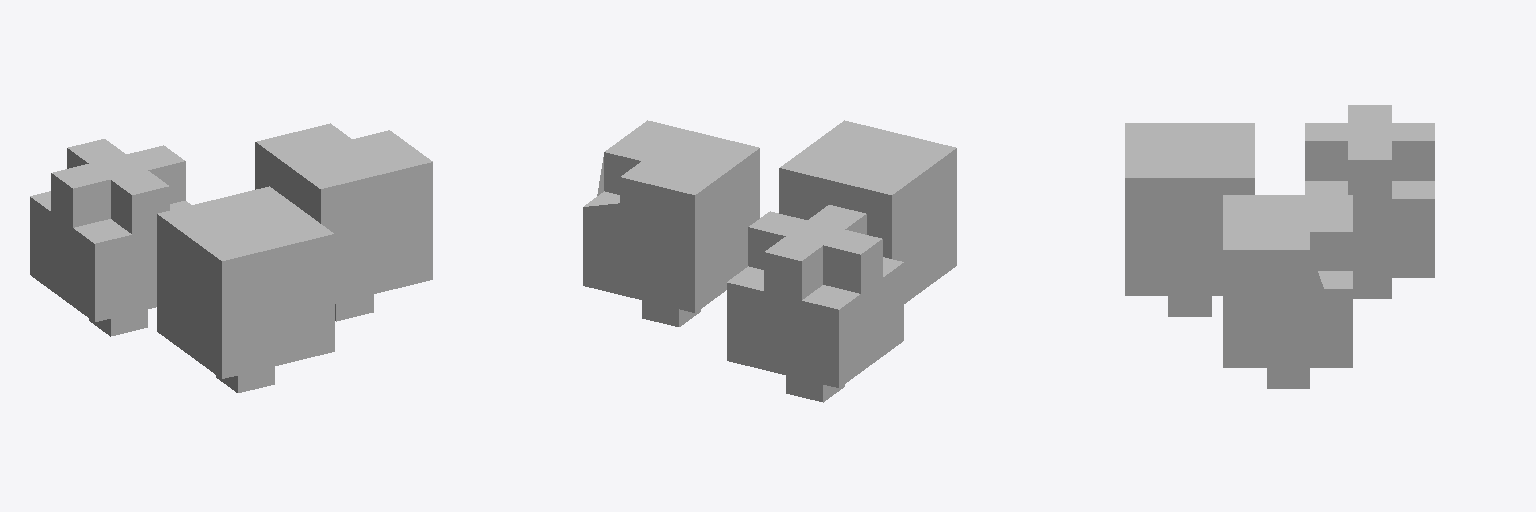
Rendered from minegistics_tree_2.mtl.obj.
The picture shows the model from 3 angles: view 1: azimuth 30°, elevation 25°; view 2: azimuth 150°, elevation 25°; view 3: azimuth 270°, elevation 25°; orthographic projection.
Visible parts, largest first — view 1: tree_6, tree_5, tree_2; view 2: tree_5, tree_2, tree_6; view 3: tree_5, tree_6, tree_2.
Part boxes in pixels (x1,y1,x2,y2): tree_6: (157, 186, 334, 392); tree_5: (255, 123, 432, 321); tree_2: (30, 139, 190, 336); tree_5: (583, 120, 759, 326); tree_2: (727, 205, 903, 402); tree_6: (779, 120, 956, 303); tree_5: (1223, 195, 1352, 388); tree_6: (1125, 123, 1254, 316); tree_2: (1305, 105, 1434, 298).
Size of the model in its own units: 0.9905 by 0.5 by 0.8944.